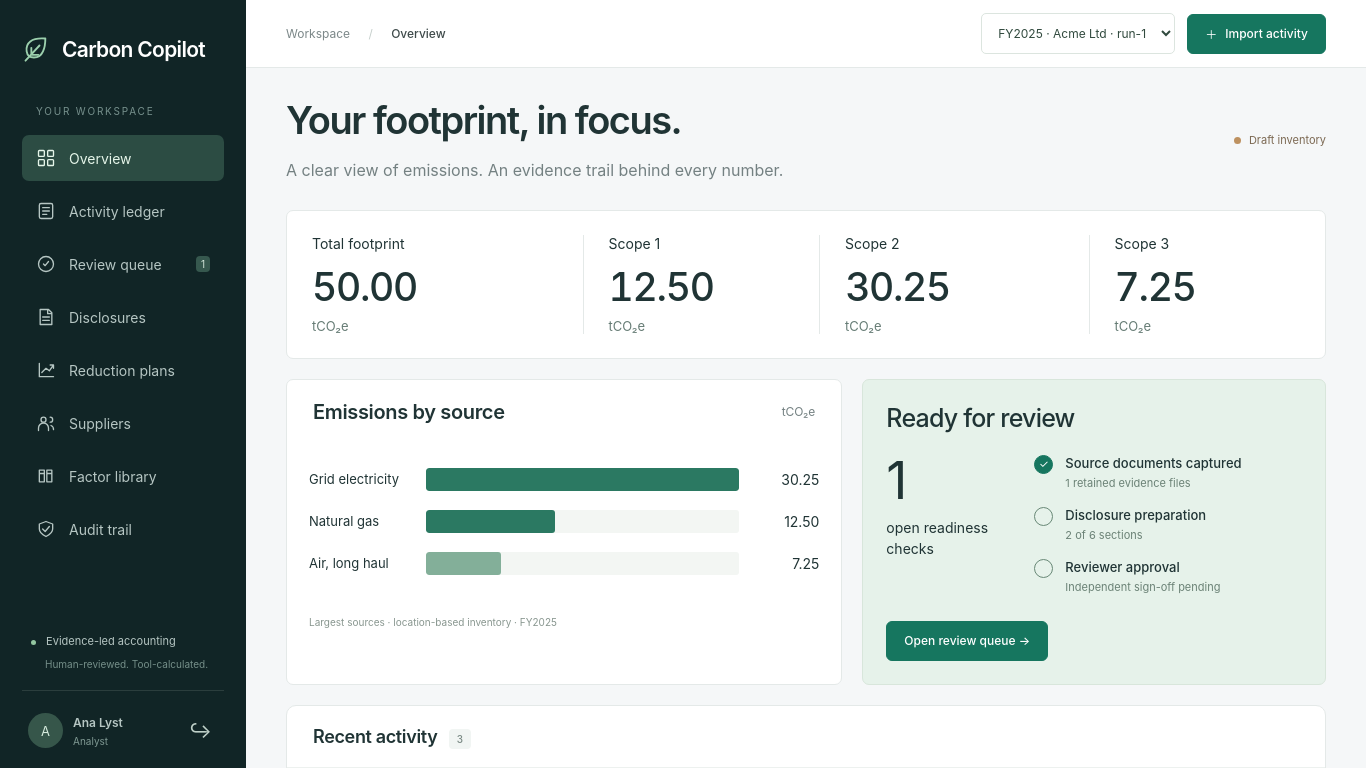
Scenario: App › loads the newest inventory into the overview and navigates between pages
The image size is (1366, 768).
Expected: the heading "Your footprint, in focus." is shown, [286,97,681,143]
Expected: the text "Total footprint" is shown, [312,235,404,252]
Click the button "Review queue 1": x=123, y=264 [22,241,224,287]
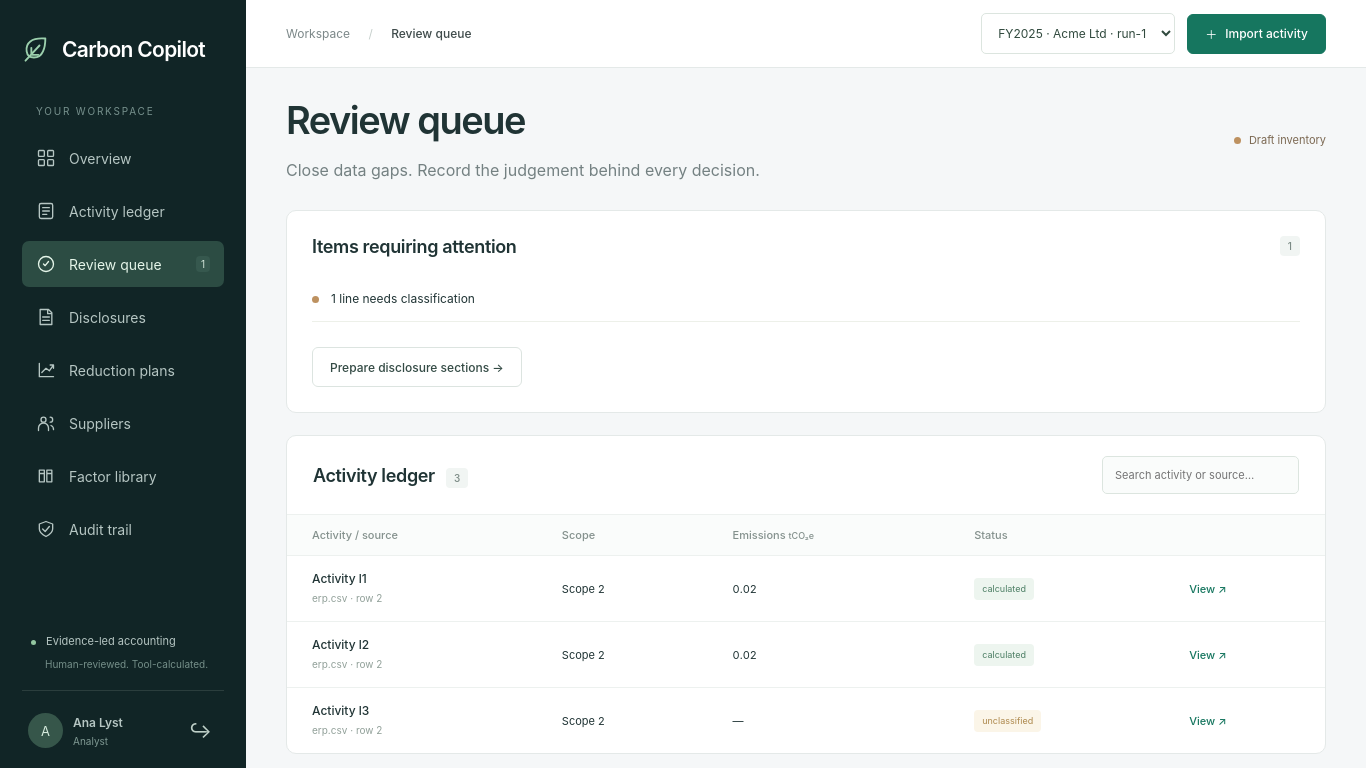
Result: the heading "Review queue" is shown at [286,97,525,143]
Result: the list item "1 line needs classification" is shown at [312,277,1300,322]
Click the button "Prepare disclosure sections →": x=417, y=367 [312,347,522,387]
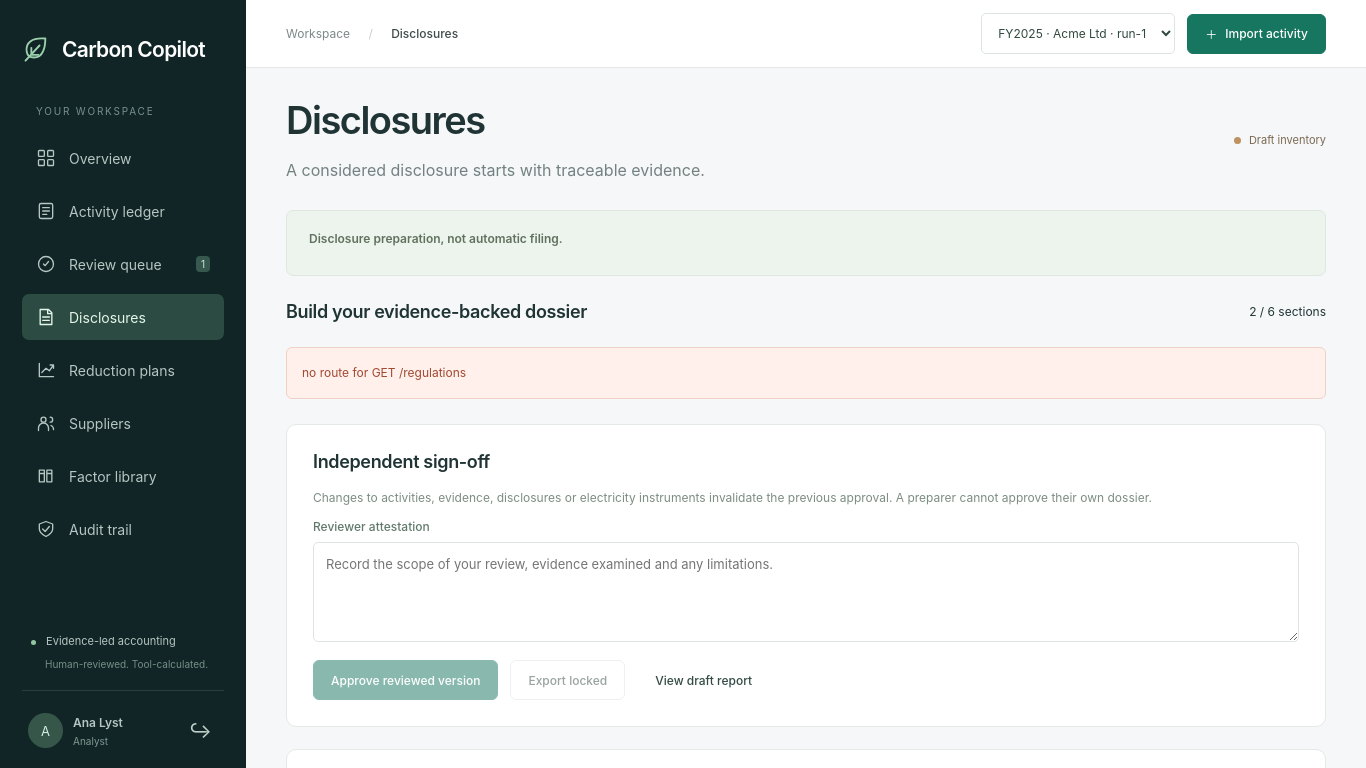
Result: the heading "Disclosures" is shown at [286,97,485,143]
